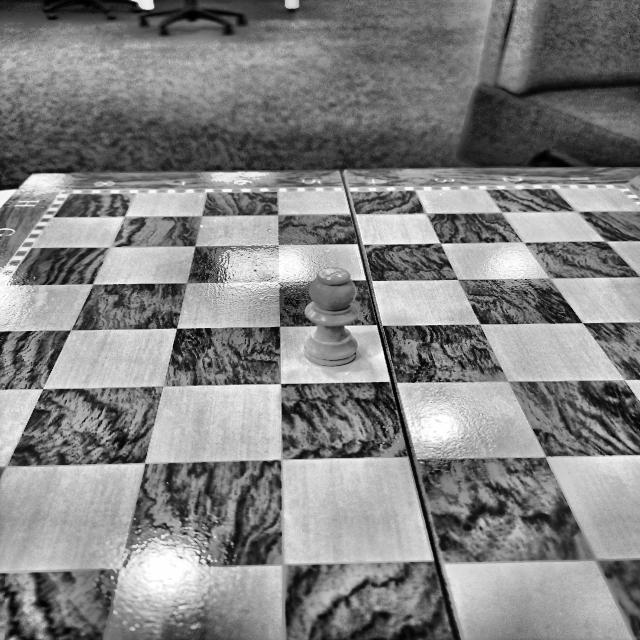white-bishop: (301, 269, 360, 367)
